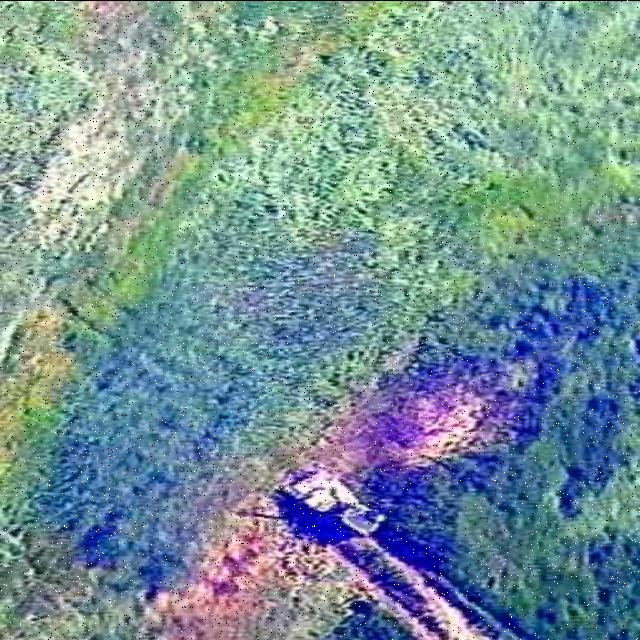ART: (275, 466, 389, 540)
